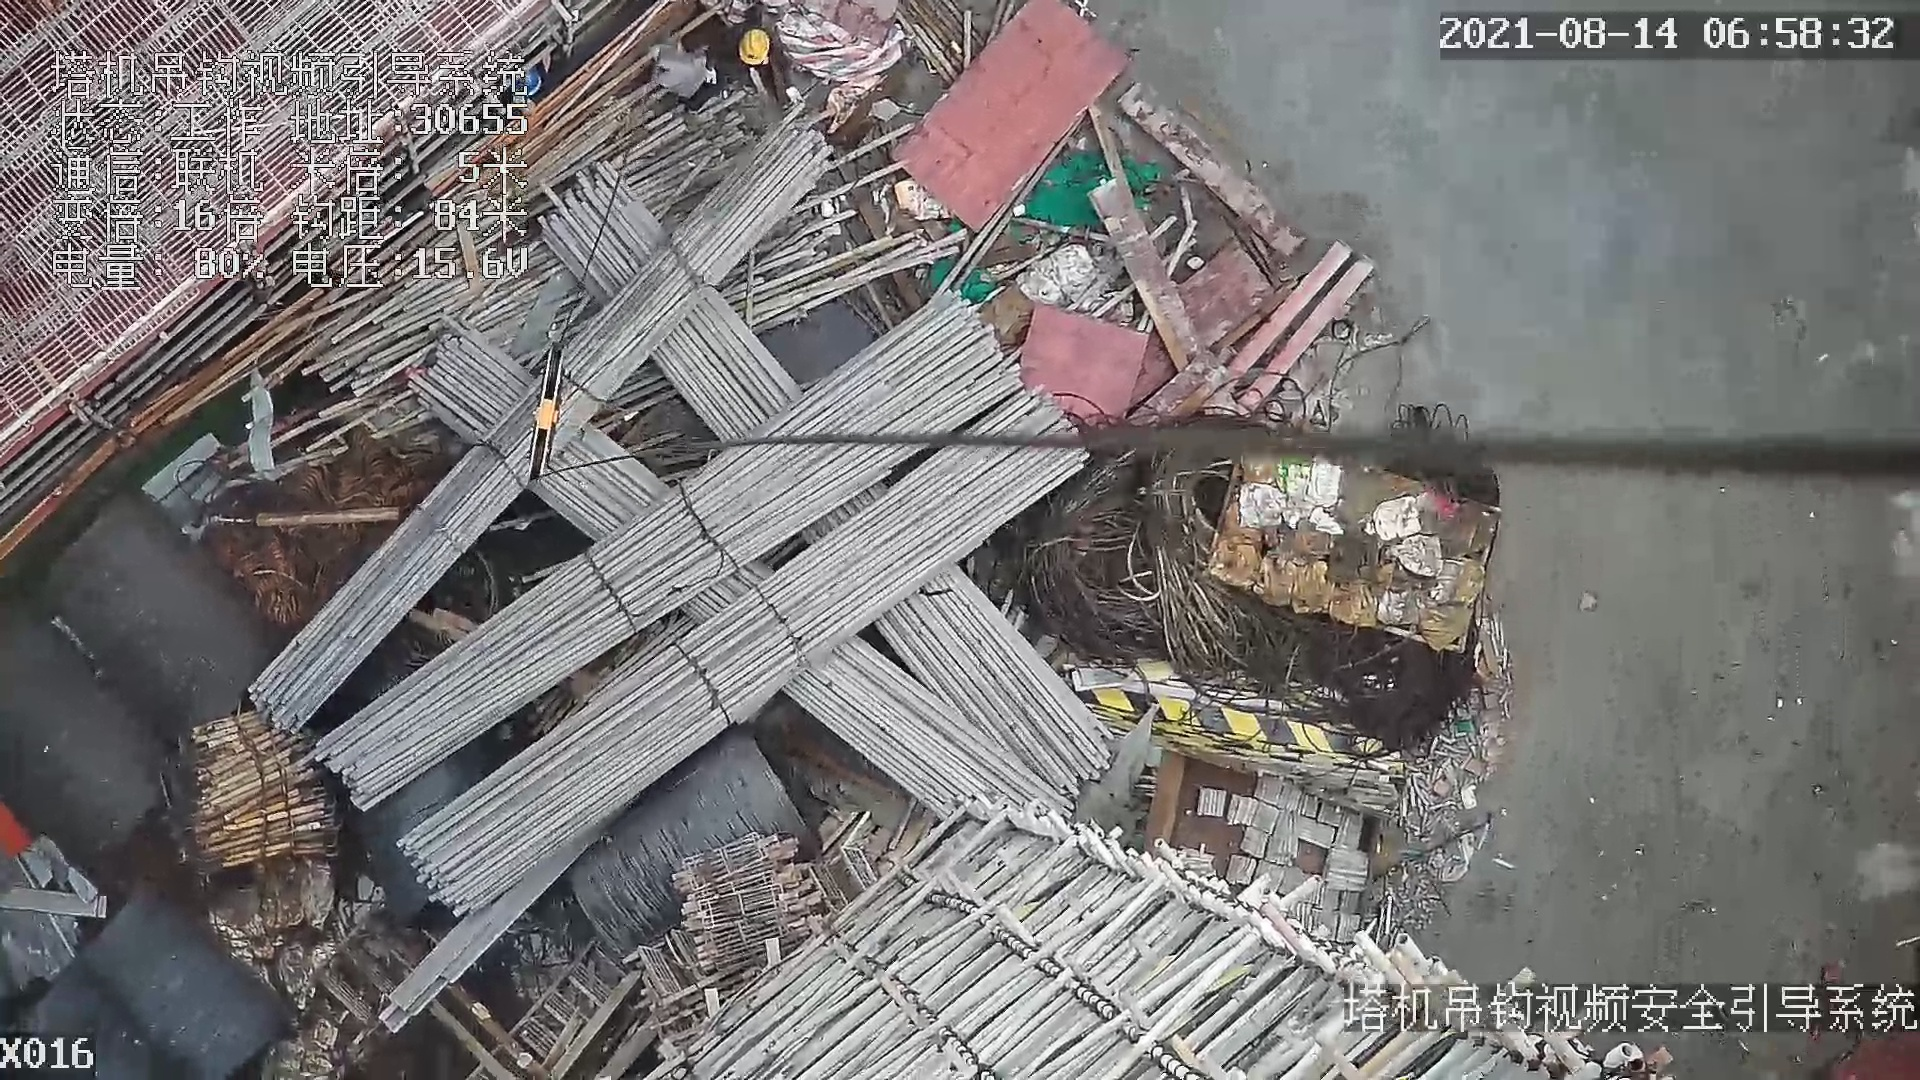helmet: (739, 29, 769, 65)
hook: (523, 332, 565, 476)
person: (669, 19, 809, 115)
rebar: (309, 293, 1023, 810), (244, 118, 831, 738), (396, 392, 1089, 915), (871, 565, 1112, 789), (786, 635, 1074, 814)
scaffold: (193, 712, 340, 868)
